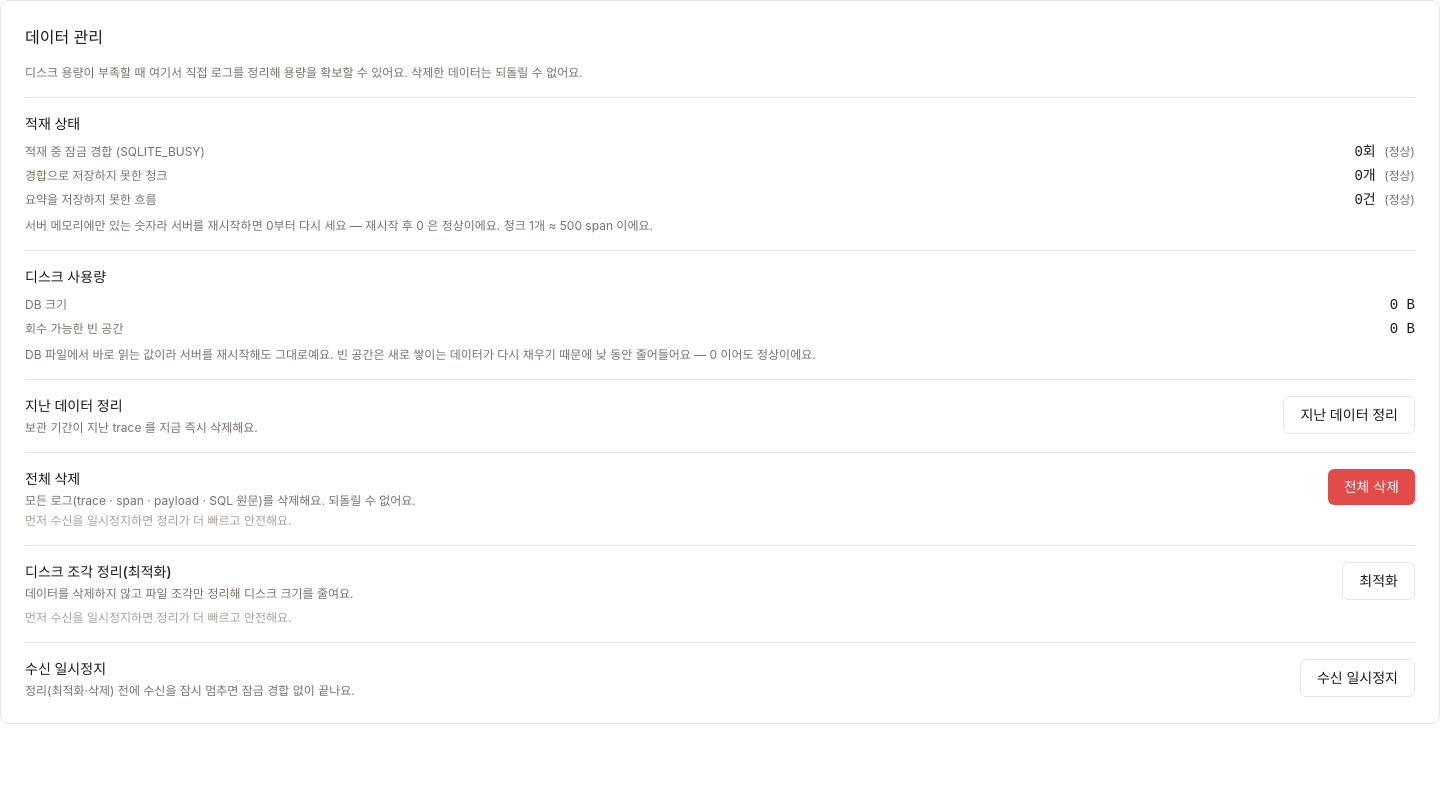
Test: DataManagementSection — 수동 디스크 정리 (cleanup / purge) › showsCleanupSuccessToastWithFreedBytes — cleanup 성공 시 trace 건수 + 확보 용량 토스트
What coordinates should you click on to do the following:
click the button "지난 데이터 정리"
I would click on:
 (1349, 415)
Its box is [1283,396,1415,434].
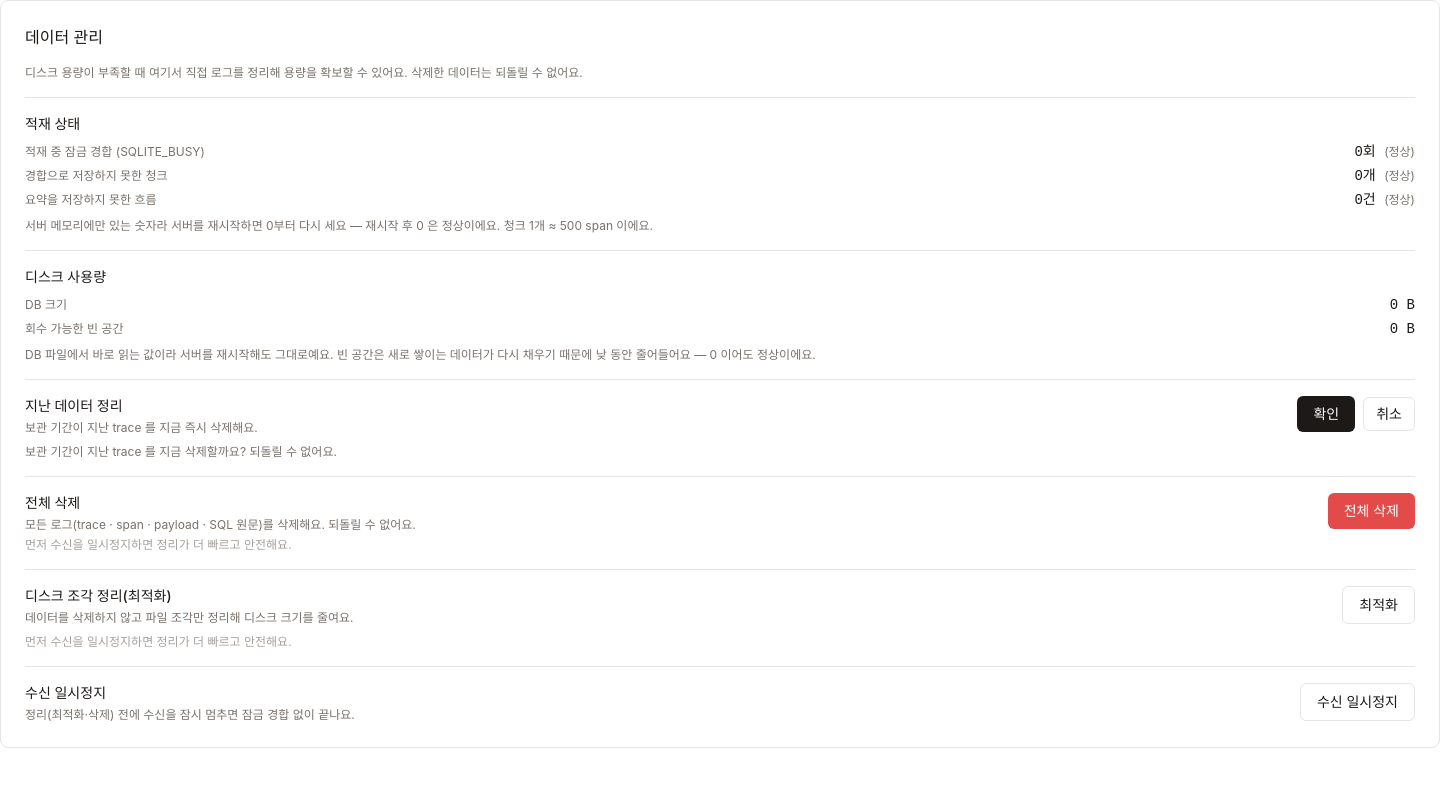
What coordinates should you click on to do the following:
click the button "확인"
I would click on:
 (1326, 414)
Its box is [1298,396,1355,432].
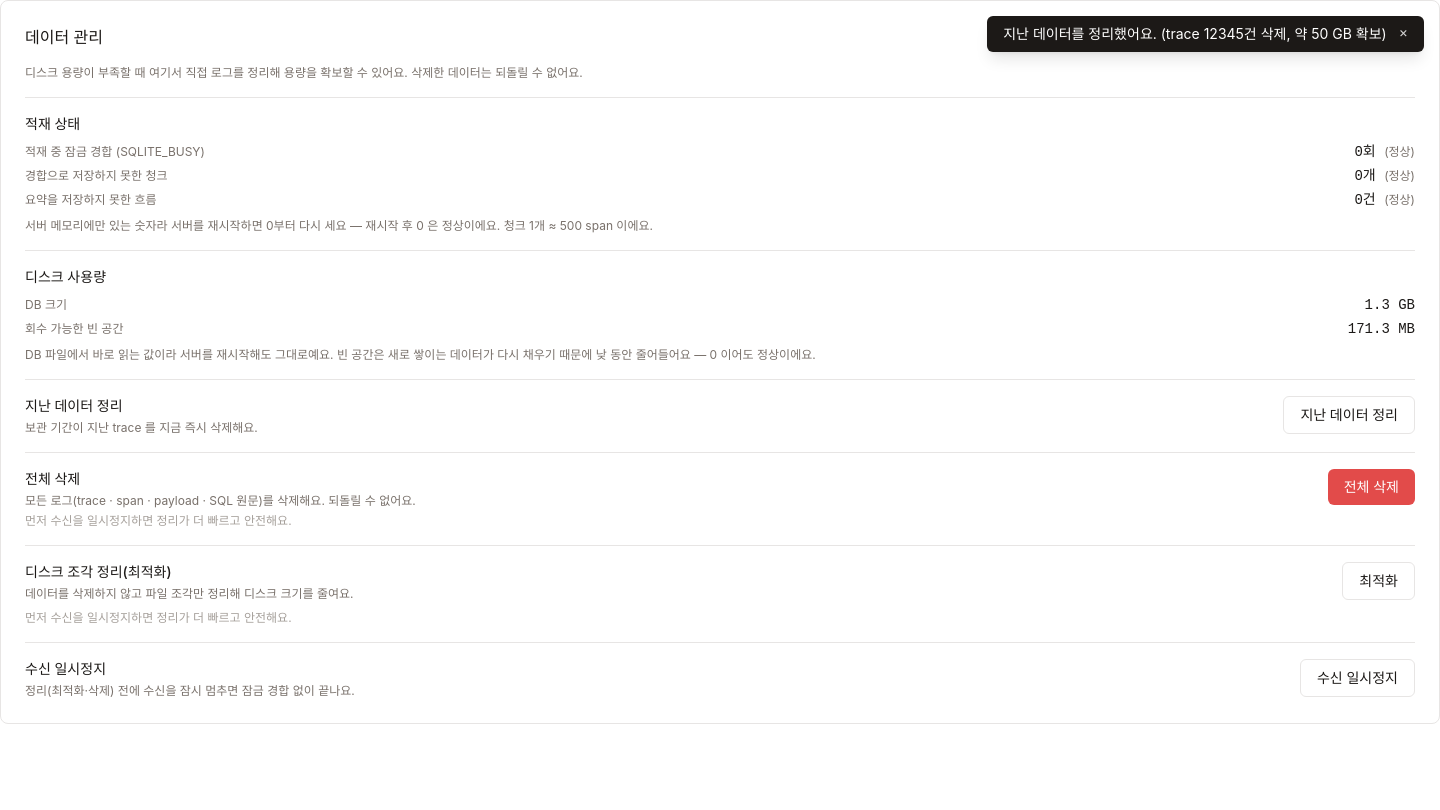
Check: the text "지난 데이터를 정리했어요. (trace 12345건 삭제, 약 50 GB 확보)" is shown, box [1003,24,1387,44]
